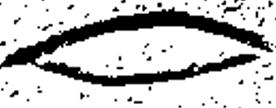Mouth: (10, 15, 271, 85)
